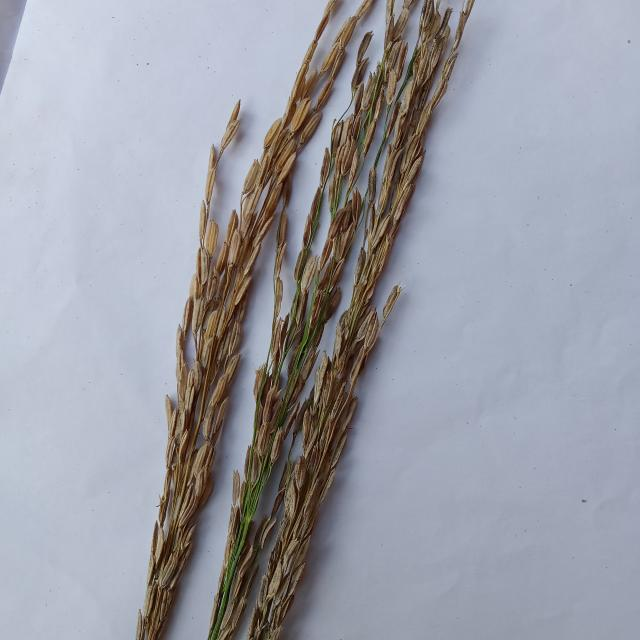Neck_Blast: (123, 0, 380, 639), (238, 0, 479, 639)
